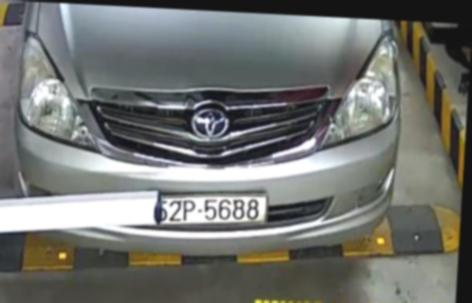License_Plate: (153, 186, 279, 233)
